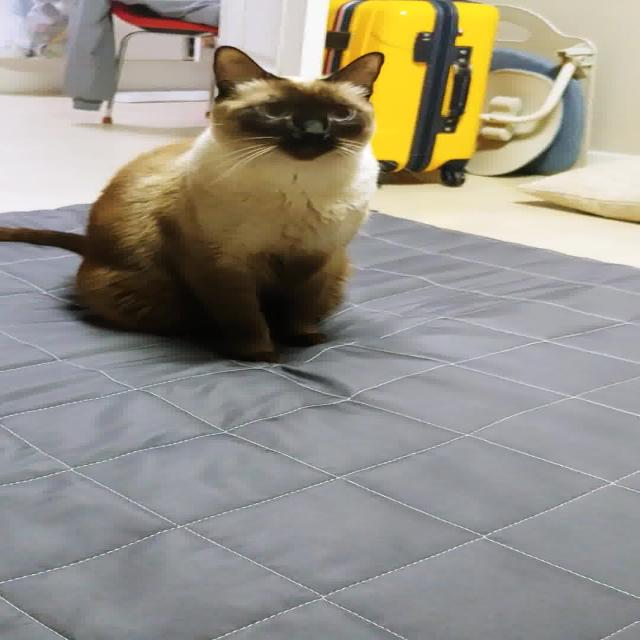cat: (3, 44, 388, 365)
